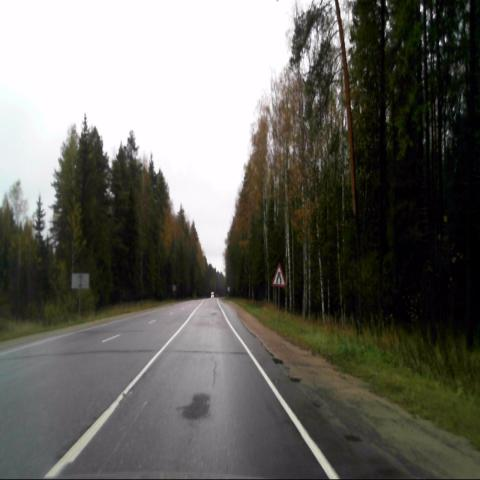1_20: (272, 261, 286, 287)
